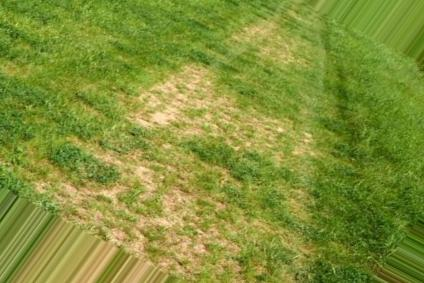patch: (111, 151, 206, 244), (150, 87, 258, 164), (184, 193, 249, 258), (252, 24, 296, 76), (60, 178, 104, 217)
